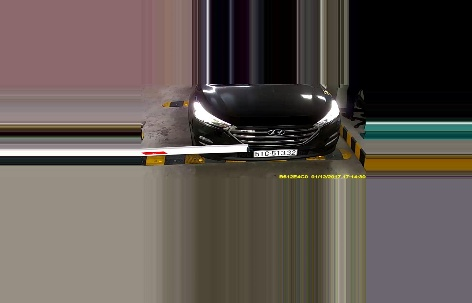plate: (249, 147, 297, 160)
